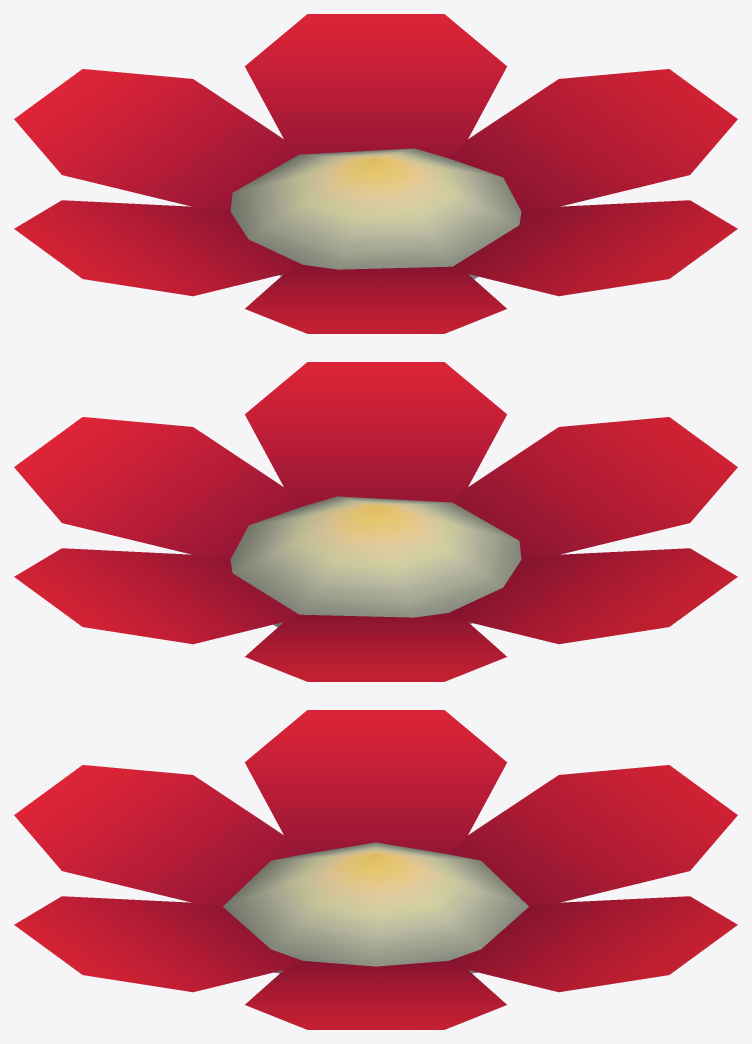
Rendered from Flower_1D.fbx.
3 views of the same model, one above another, from view 1: azimuth 30°, elevation 25°; view 2: azimuth 150°, elevation 25°; view 3: azimuth 270°, elevation 25° (orthographic).
Parts seen in each view (by area): view 1: Flower_1D; view 2: Flower_1D; view 3: Flower_1D.
Boxes of the visible parts, left/top/right/bottom form: Flower_1D: left=14, top=14, right=737, bottom=333; Flower_1D: left=14, top=362, right=737, bottom=681; Flower_1D: left=14, top=710, right=737, bottom=1029.
Bounding box in the file's own units: 54.85 × 5.21 × 52.48.
